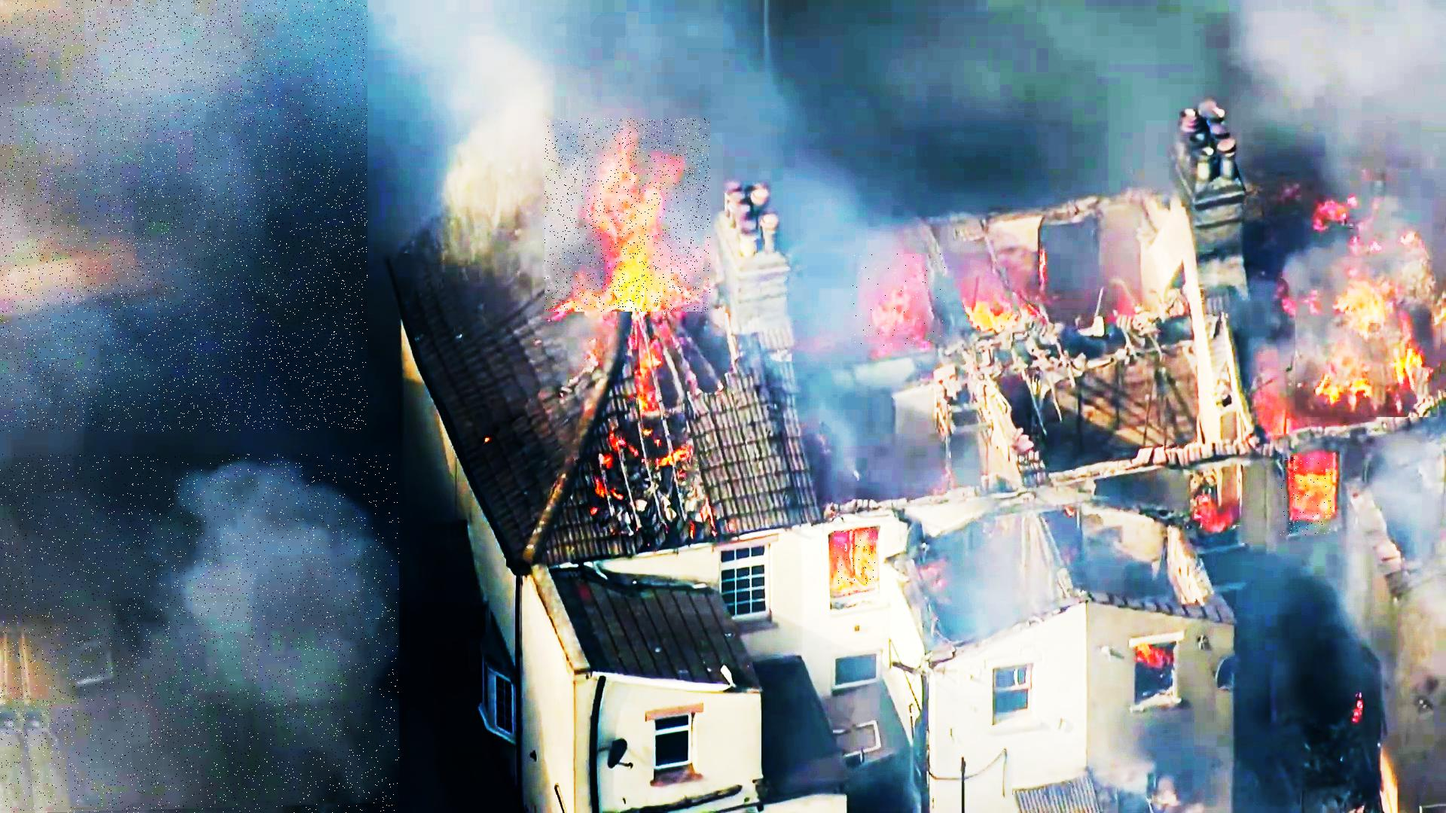fire: (1295, 184, 1446, 417), (545, 119, 710, 314), (851, 254, 945, 347), (1280, 458, 1331, 536), (834, 531, 876, 584)
smoke: (0, 0, 368, 431), (0, 454, 399, 813)
